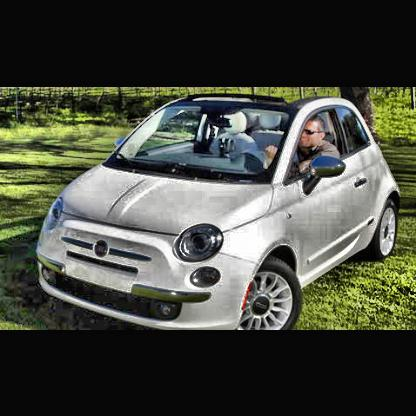FIAT 500 Convertible 2012: (37, 94, 405, 330)
